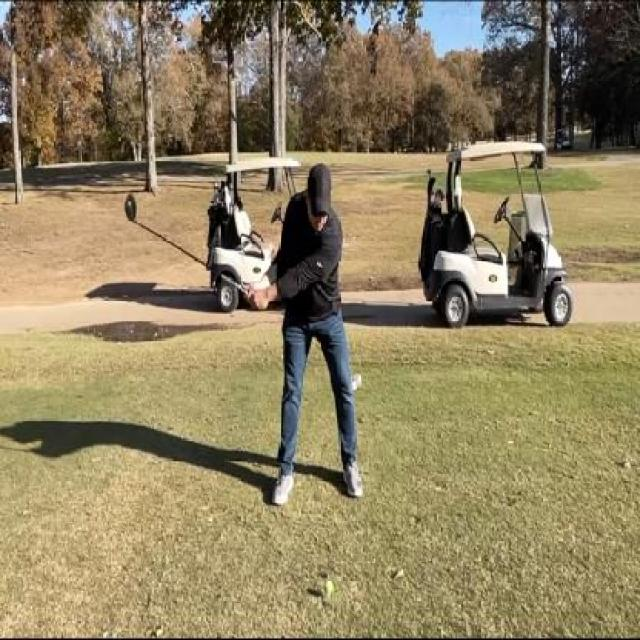club head: (124, 189, 139, 223)
